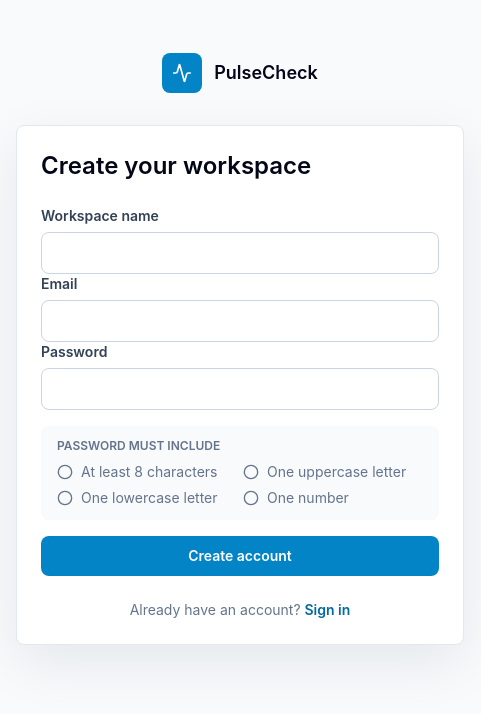
Test case: LoginPage › shows a friendly password rule message on registration
Type "Acme Ops" into the field labelled "Workspace name" at coordinates (240, 253), box [41,232,439,274]
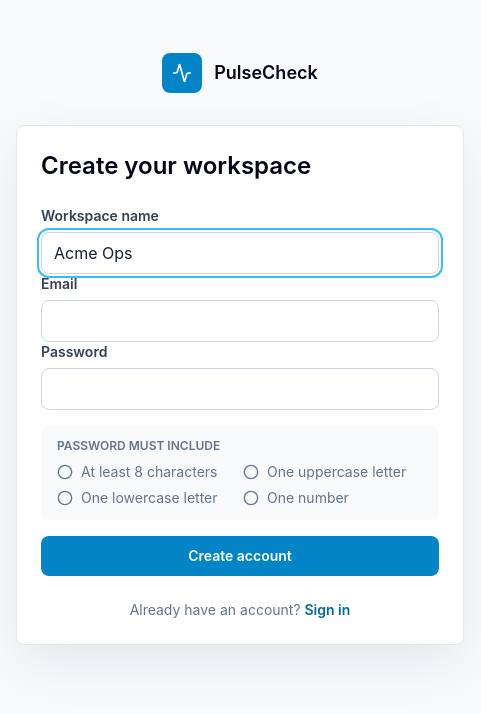
Type "ops@example.com" into the field labelled "Email" at coordinates (240, 321), box [41,300,439,342]
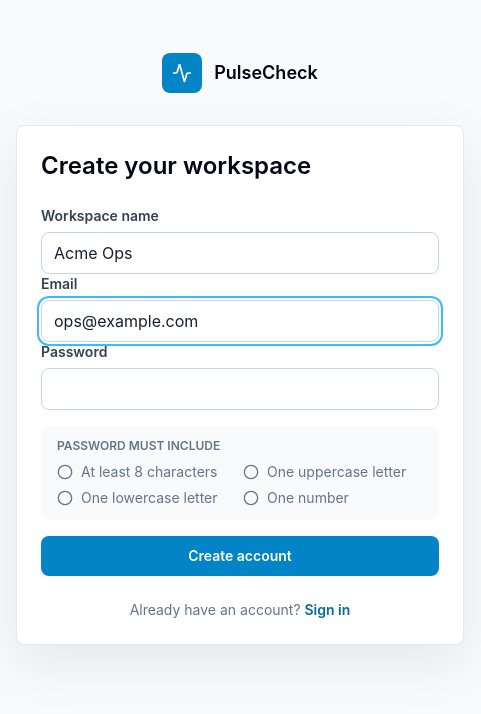
Type "password1" into the password field labelled "Password" at coordinates (240, 389), box [41,368,439,410]
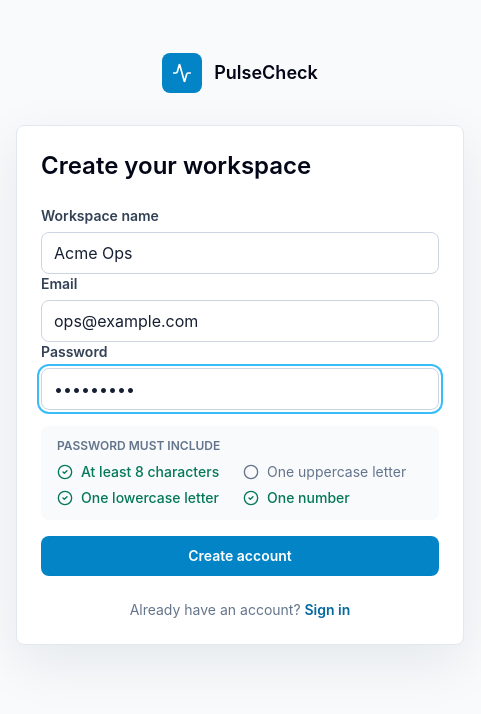
Click the button "Create account" at coordinates (240, 556), box [41,536,439,576]
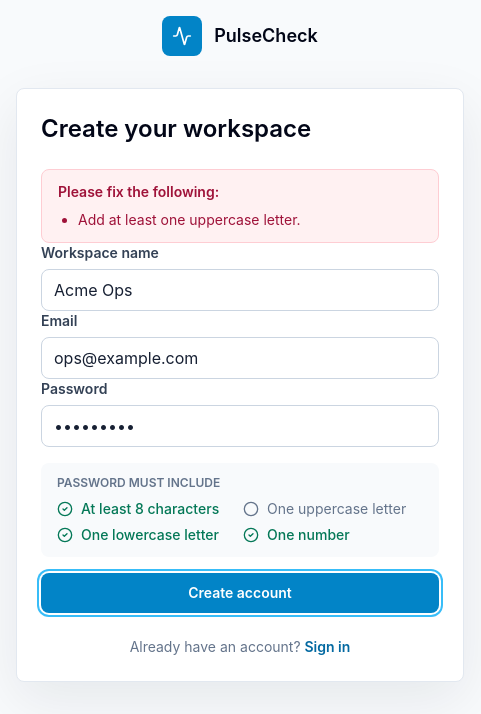
Check: the list item "Add at least one uppercase letter." is shown, box [78,211,301,228]
